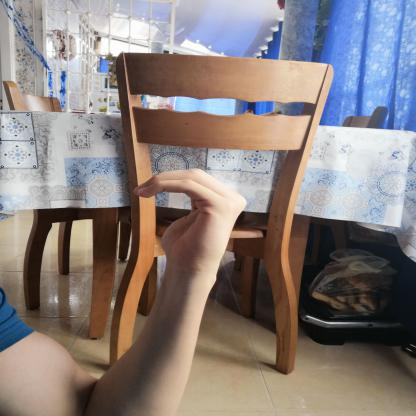HAA: (116, 158, 254, 273)
